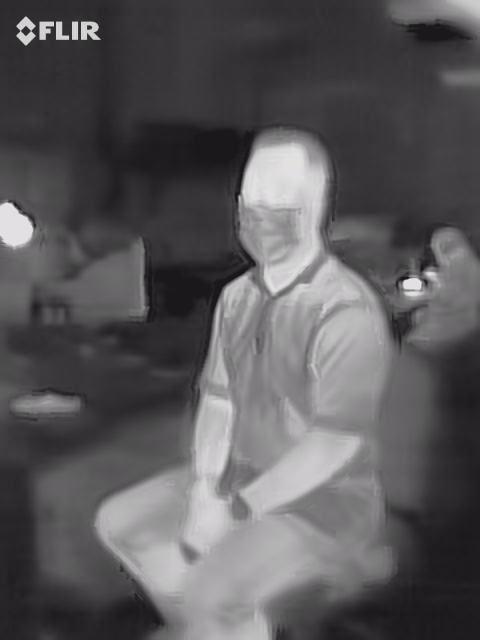head: (235, 127, 329, 268)
